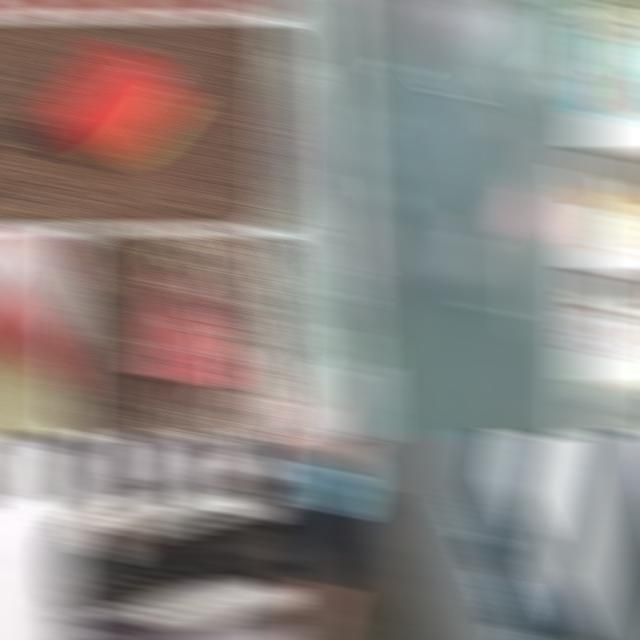Knife_Handle: (504, 171, 554, 348)
